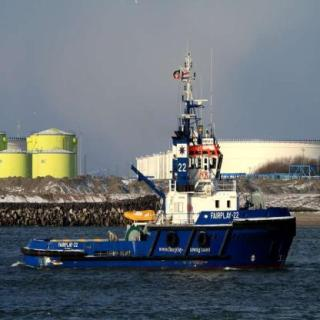Tug Boat: (17, 30, 298, 275)
